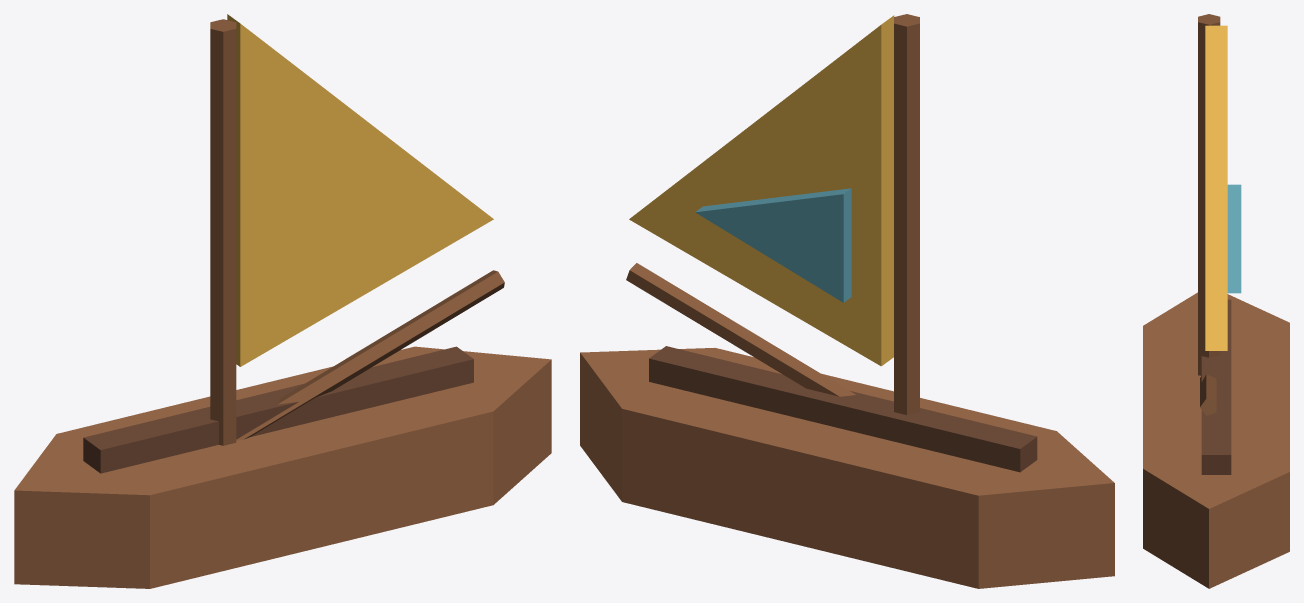
Rendered from xy_item_sail.glb.
3 views of the same model, side by side, from view 1: azimuth 30°, elevation 25°; view 2: azimuth 150°, elevation 25°; view 3: azimuth 270°, elevation 25° (orthographic). The views are drawn at different scales.
Visible parts, largest first — view 1: SmallSail; view 2: SmallSail; view 3: SmallSail.
Part boxes in pixels (<box>): SmallSail: <box>14,14,551,588</box>; SmallSail: <box>580,14,1114,588</box>; SmallSail: <box>1143,14,1289,588</box>.
Size of the model in its own units: 1.44 by 1.3 by 0.4.
